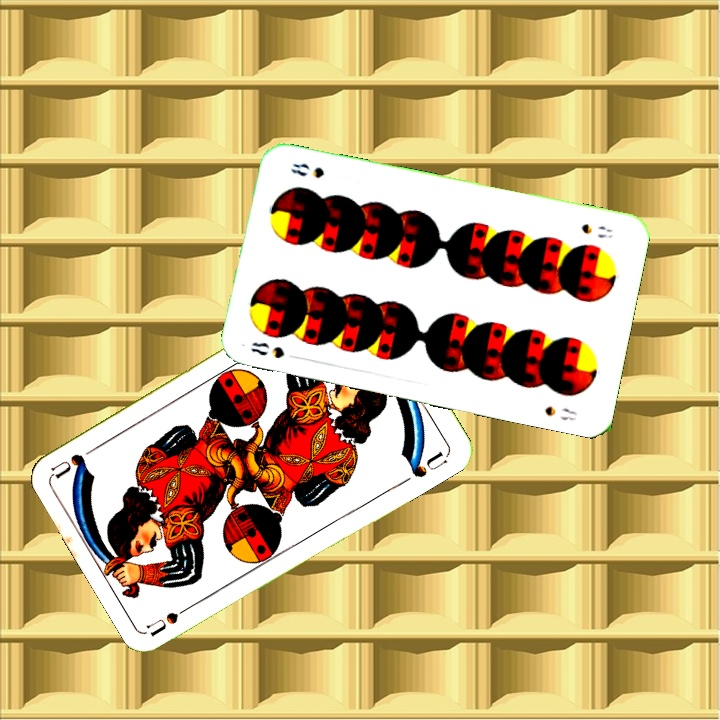S8: (247, 337, 287, 361), (577, 219, 615, 241)
SU: (144, 598, 200, 638)
